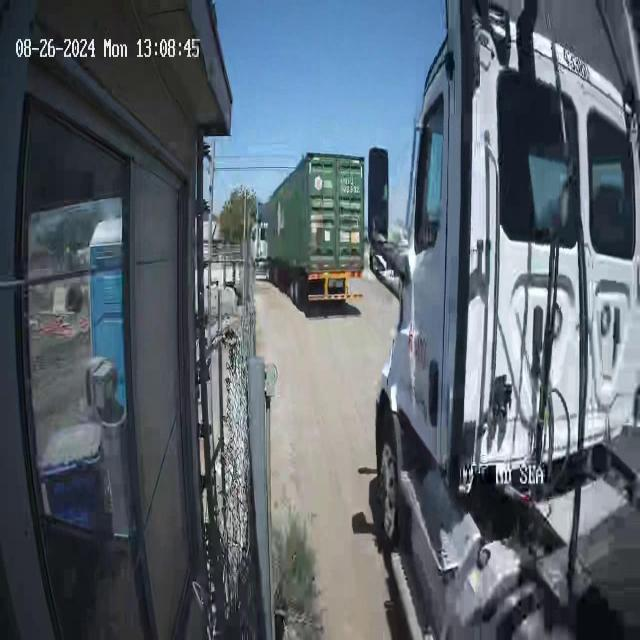TRUCK_OUT: (370, 3, 639, 640), (256, 150, 363, 314)
